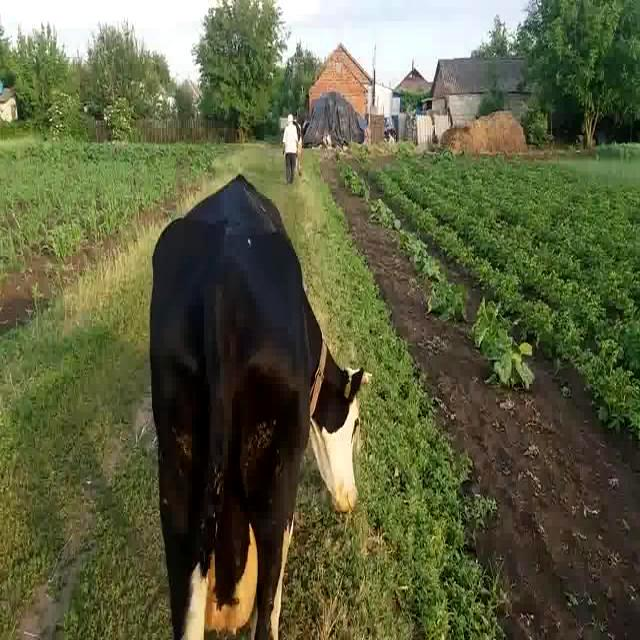COW: (150, 175, 365, 639)
